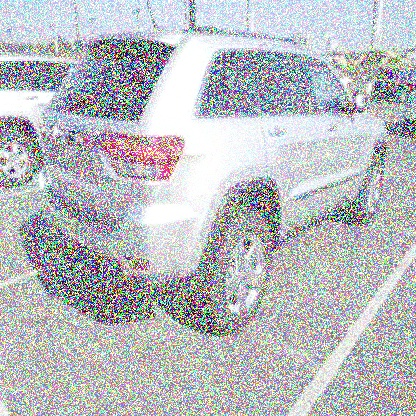Vehicle: (39, 34, 391, 338)
